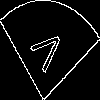V: (24, 24, 66, 79)
